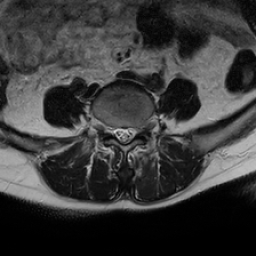CCS_stenosis: (121, 121, 128, 148)
LFS_stenosis: (137, 118, 145, 138)
LLS_normal: (129, 122, 137, 142)
RFS_normal: (105, 118, 114, 139)
RLS_normal: (114, 121, 121, 146)
